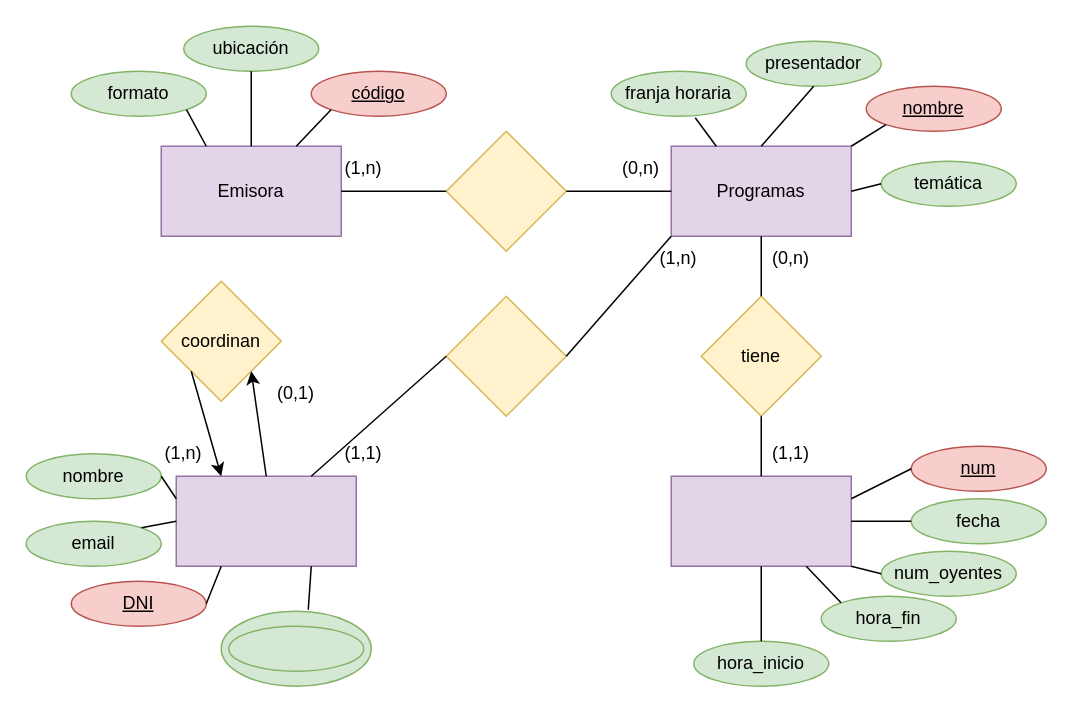
Image size: 1073x713. Some labels were removed from this diagram. Here are the shapes that lost their labels. From the top down, the centre of each, then its label:
point 505,190: habrá
point 505,355: Conducida
point 265,520: Presentadores
point 760,520: Ediciones
point 295,648: teléfono
